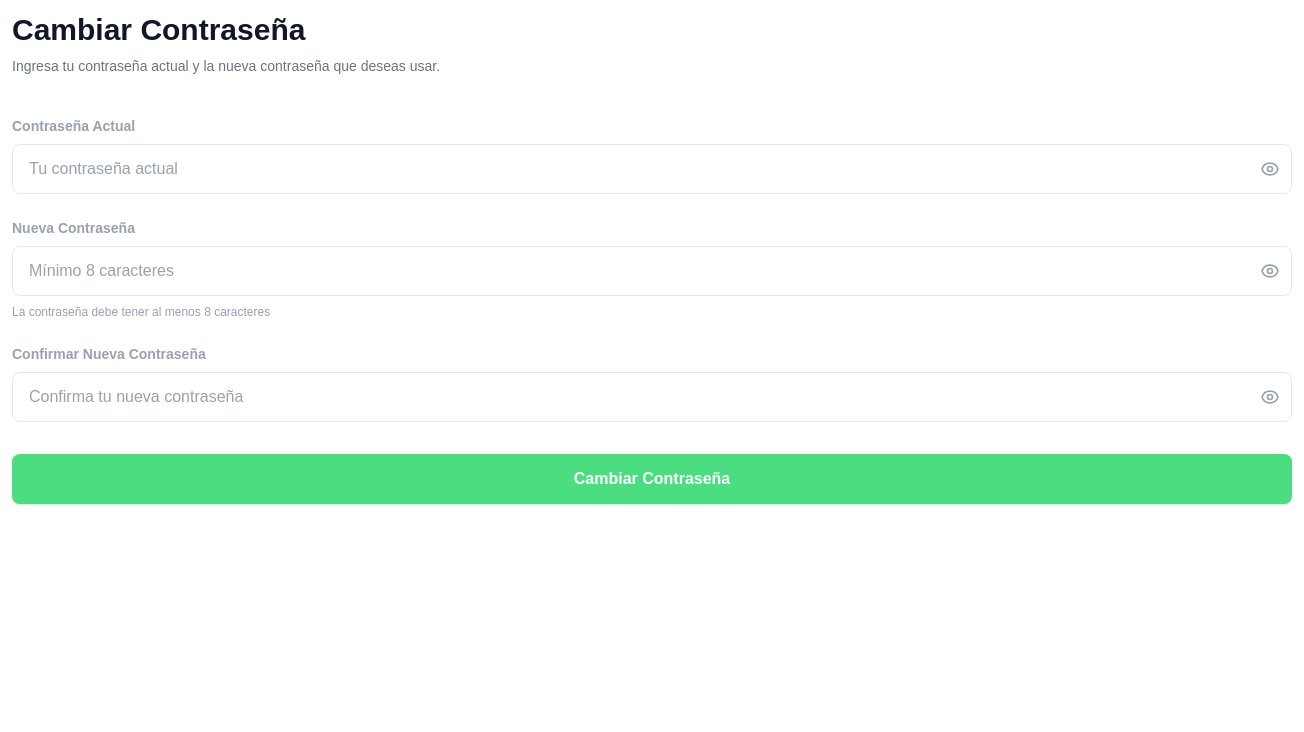
Test: ChangePasswordForm › validación del formulario › debería mostrar error cuando la nueva contraseña tiene menos de 8 caracteres
The width and height of the screenshot is (1304, 732).
Type "oldPass123" into the password field with placeholder "Tu contraseña actual" at {"x": 652, "y": 169}, box [12,144,1292,194]
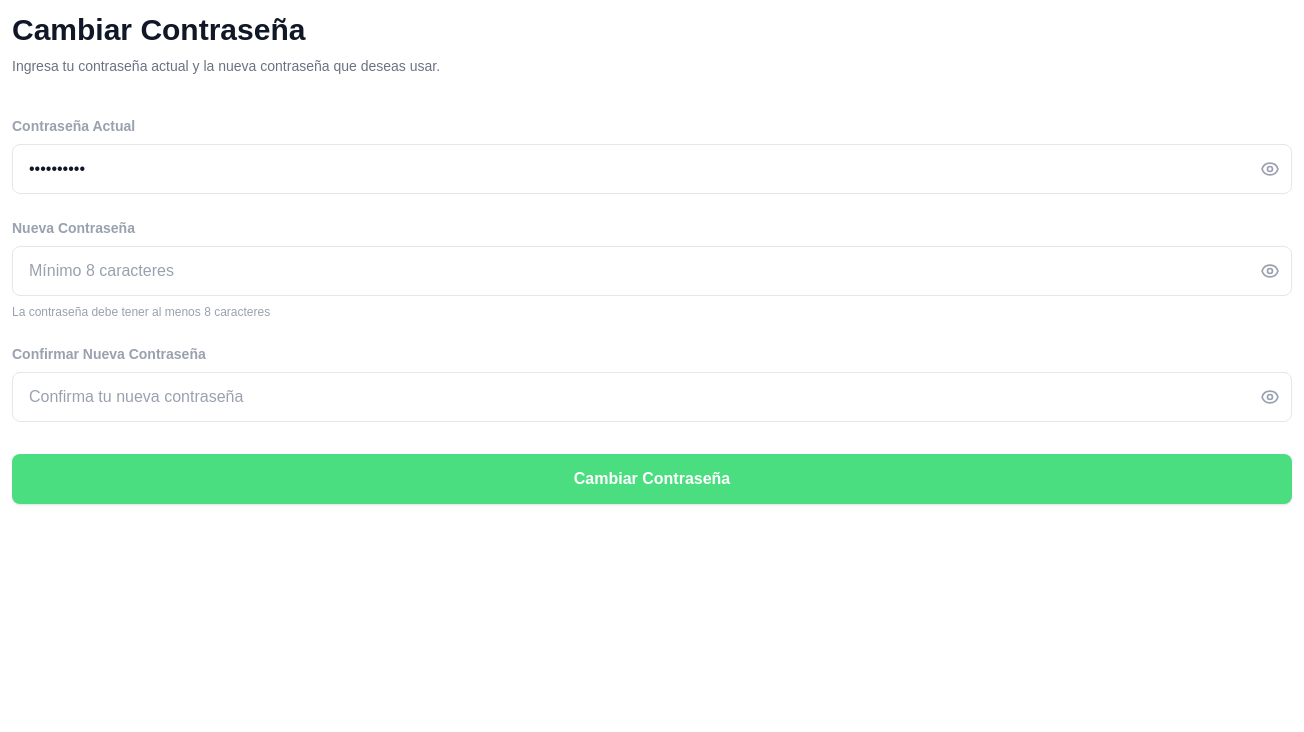
Type "short" into the password field with placeholder "Mínimo 8 caracteres" at {"x": 652, "y": 271}, box [12,246,1292,296]
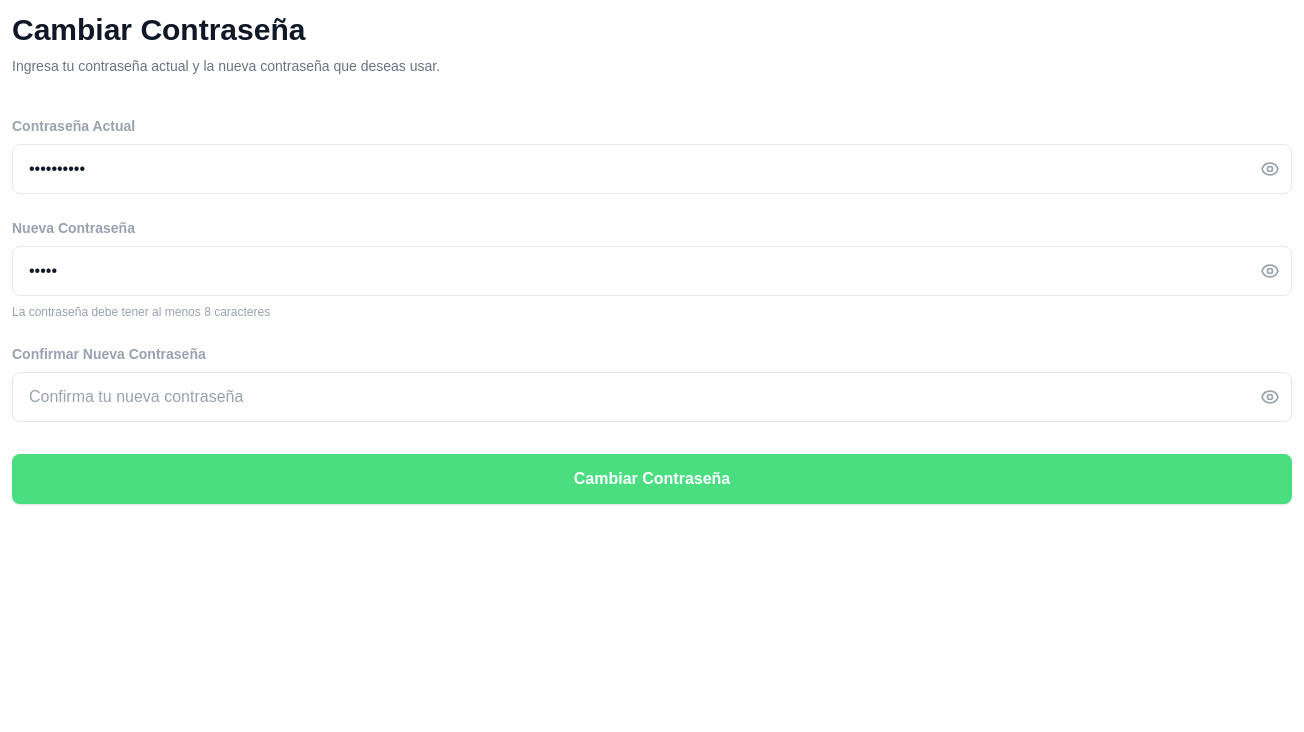
Type "short" into the password field with placeholder "Confirma tu nueva contraseña" at {"x": 652, "y": 397}, box [12,372,1292,422]
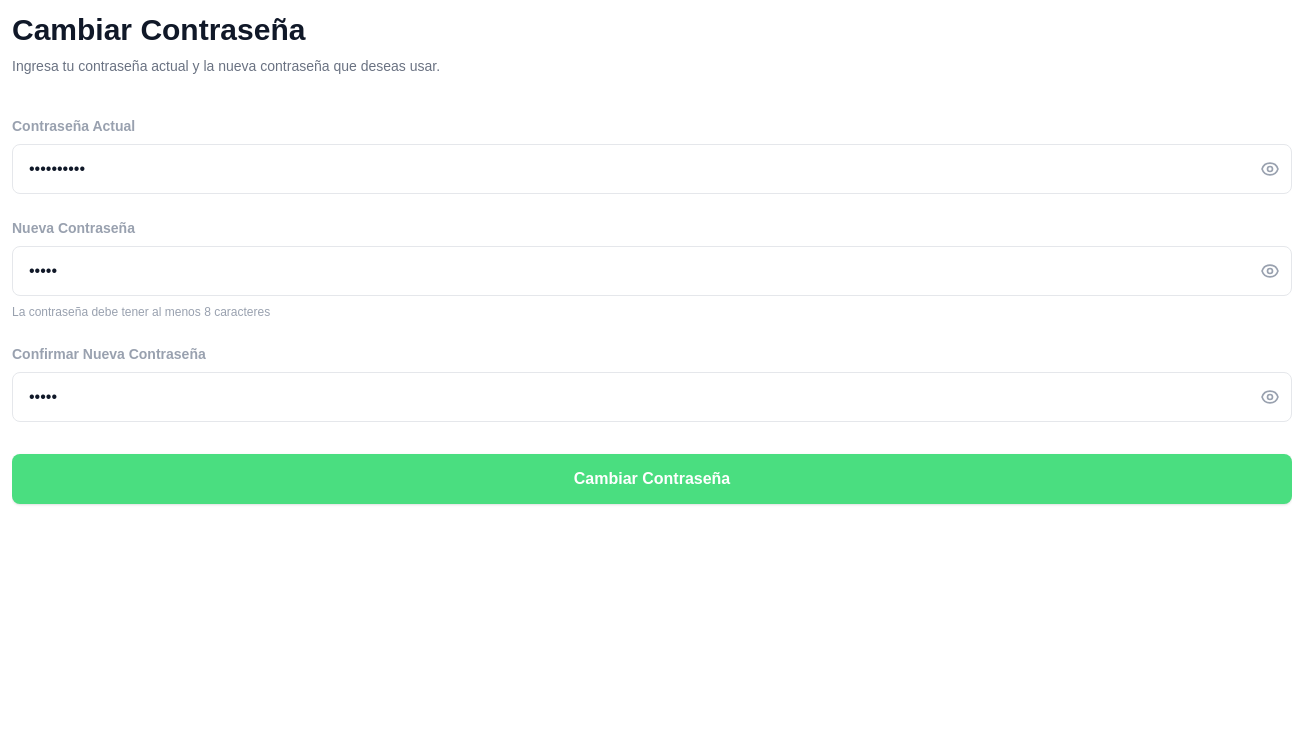
Submit the form named "cambiar contraseña", box [12,116,1292,504]
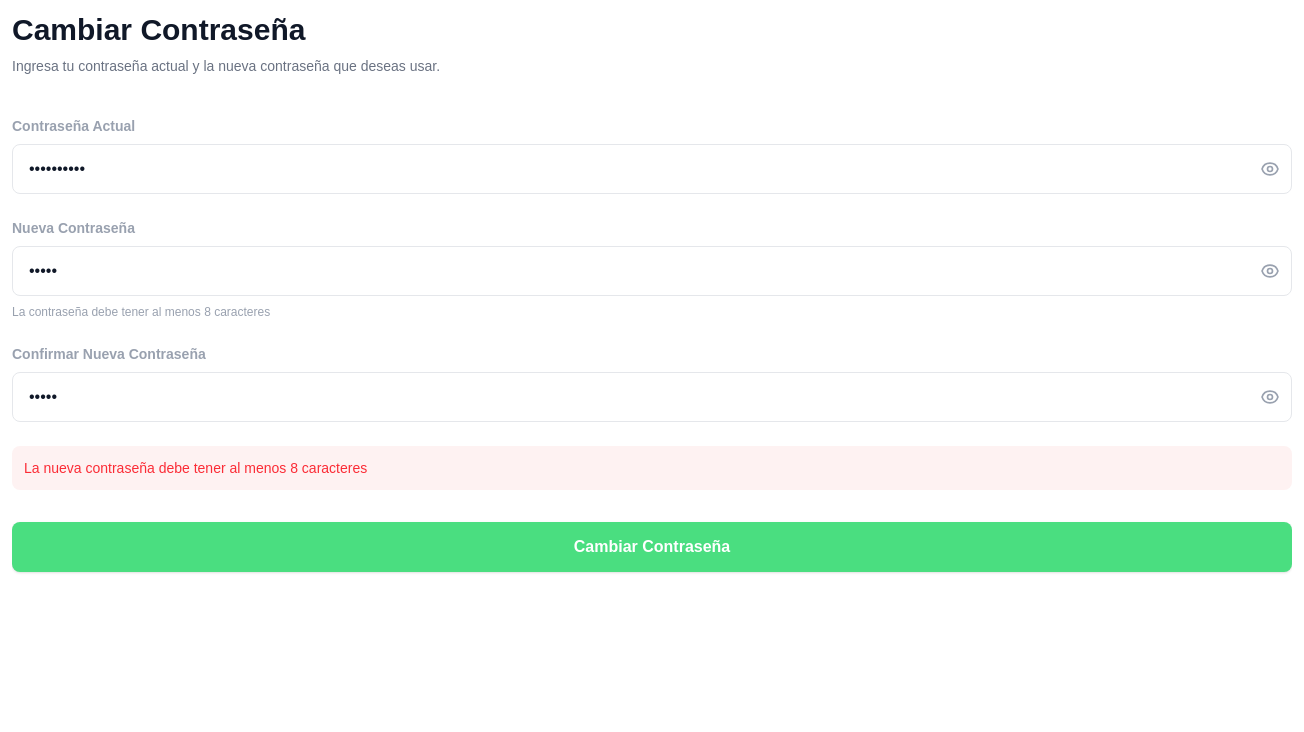
Result: the text "La nueva contraseña debe tener al menos 8 caracteres" is shown at [12,446,1292,490]
